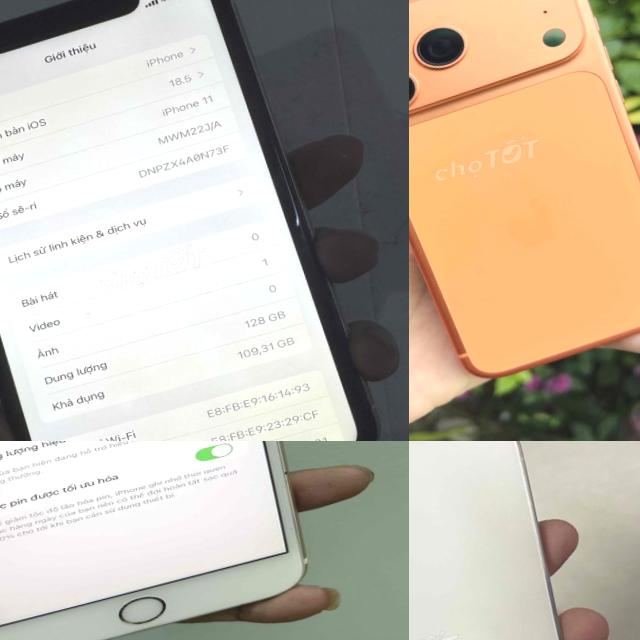gen_11: (0, 0, 388, 441)
gen_12_13: (409, 441, 621, 640)
gen_17: (409, 0, 640, 411)
gen_6: (0, 441, 306, 640)
